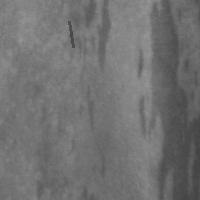inclusion: (136, 1, 198, 198), (33, 104, 84, 198), (67, 1, 111, 74), (81, 83, 99, 132), (93, 142, 109, 180), (67, 19, 75, 49)
